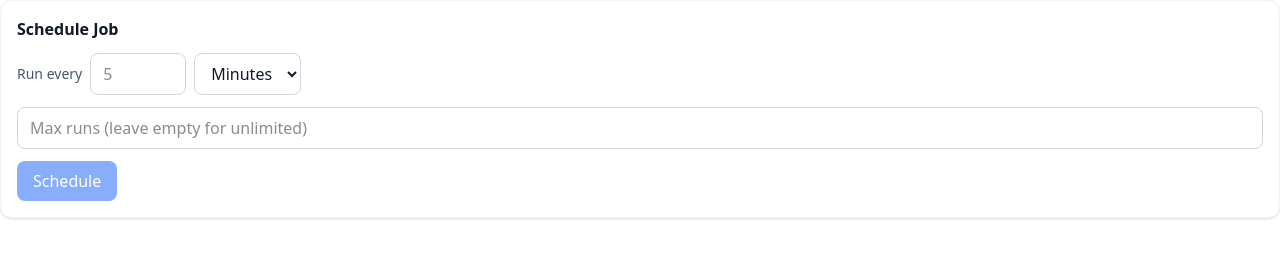
Test case: ScheduleSection - No Schedule › shows cron preview for hours
This screenshot has width=1280, height=265.
Type "2" into the number field with placeholder "5" at (138, 74), box [90,53,186,95]
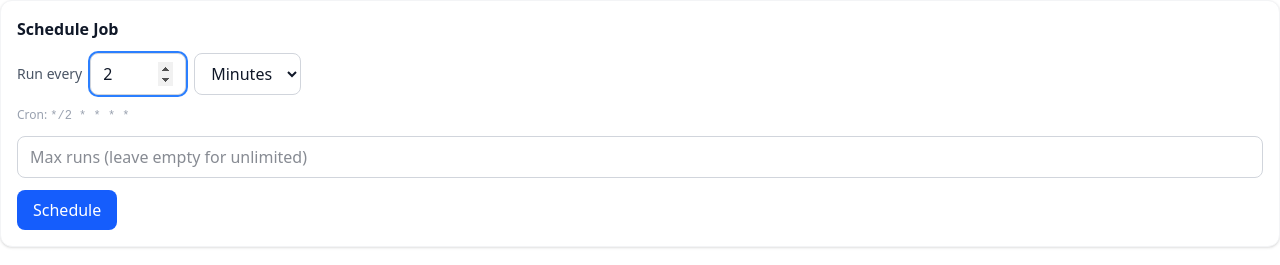
Select "Hours" in the dropdown at (248, 74), box [194,53,301,95]
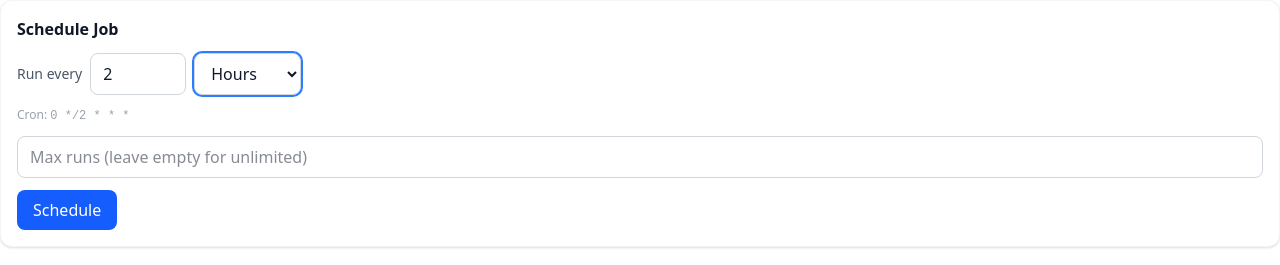
Check: the text "0 */2 * * *" is shown, box [50,109,130,123]
